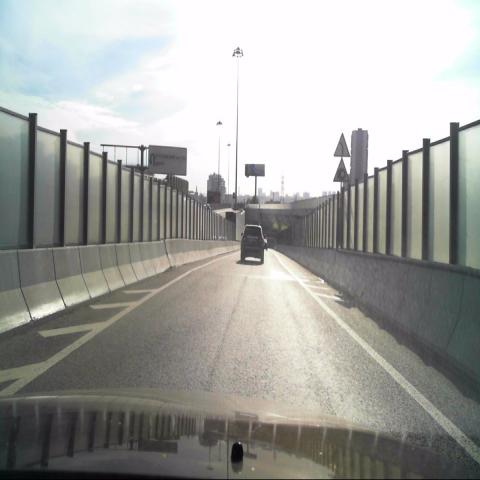1_11_1: (331, 132, 352, 156)
1_31: (332, 155, 350, 182)
